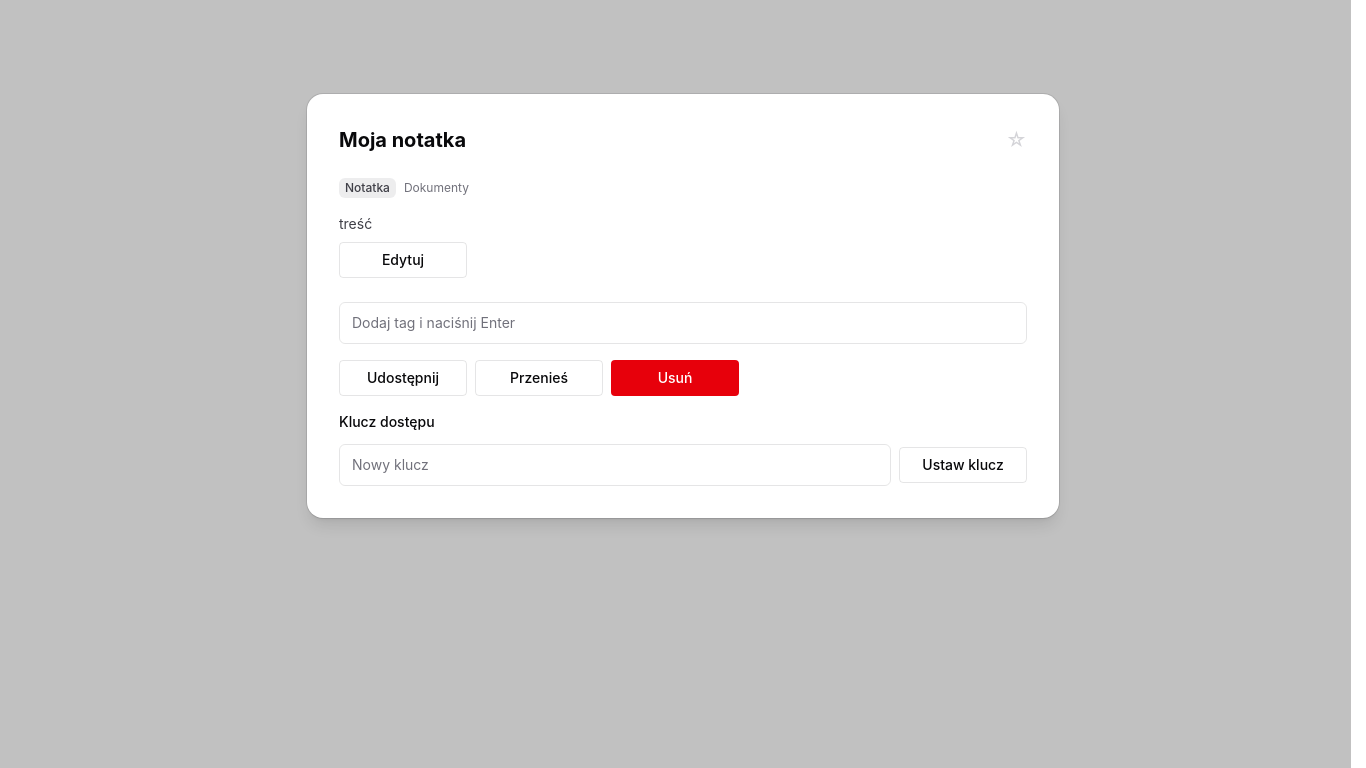
Scenario: ItemDetailsModal › shows an error message when saving a tag fails
This screenshot has width=1366, height=768.
Expected: the heading "Moja notatka" is shown, left=339, top=126, right=466, bottom=154
Type "ważne" into the field with placeholder "Dodaj tag i naciśnij Enter" at (683, 323), box left=339, top=302, right=1027, bottom=344
Then press Enter
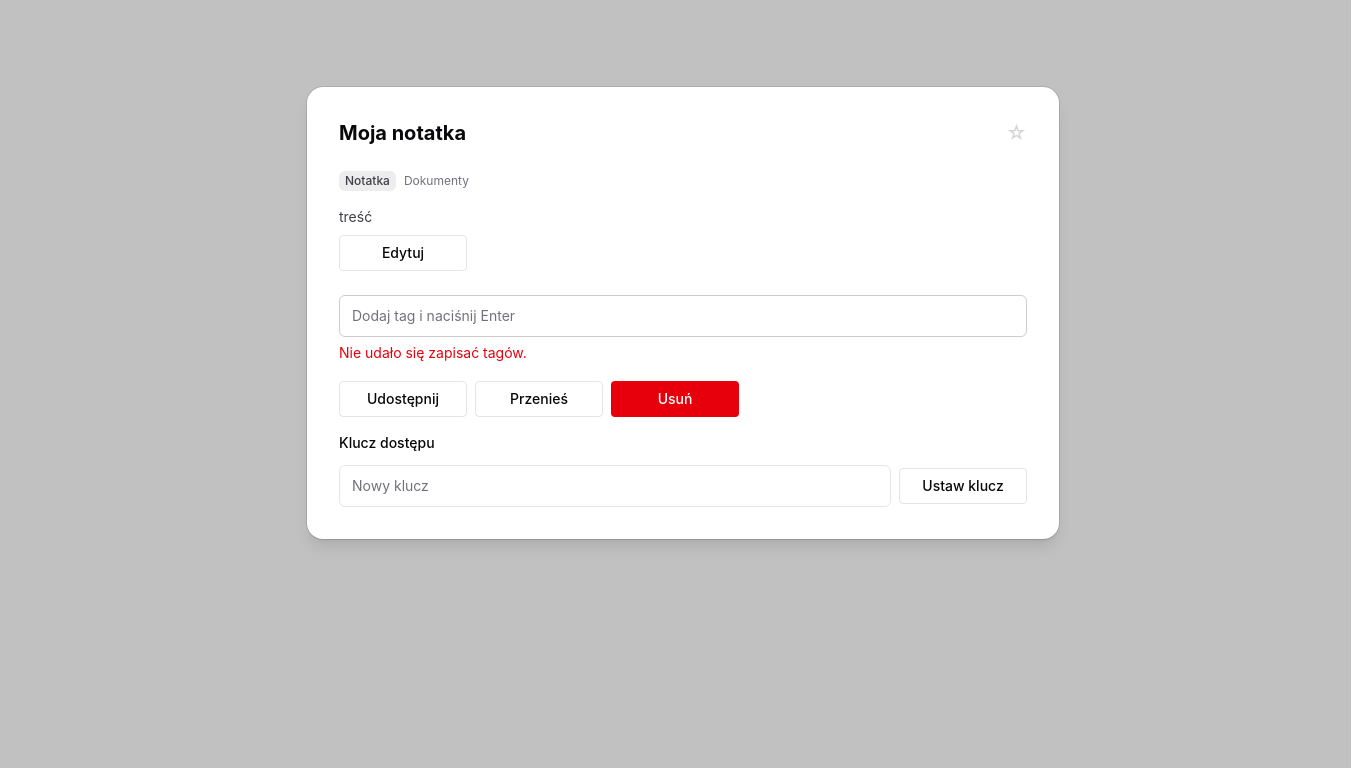
Now the text "Nie udało się zapisać tagów." is shown, box left=339, top=344, right=527, bottom=361
